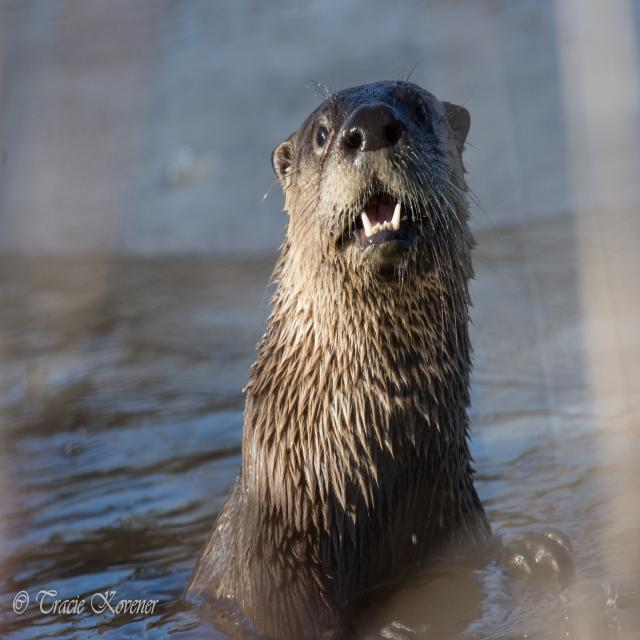otter: (190, 84, 484, 597)
